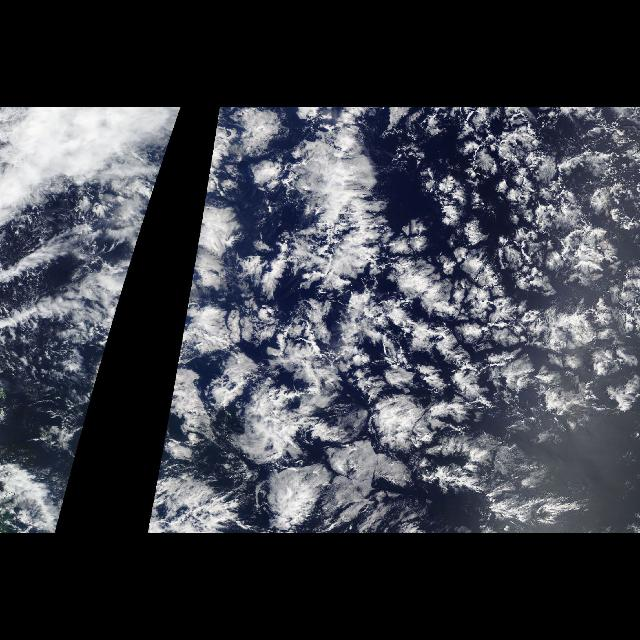Flower: (226, 119, 640, 502)
